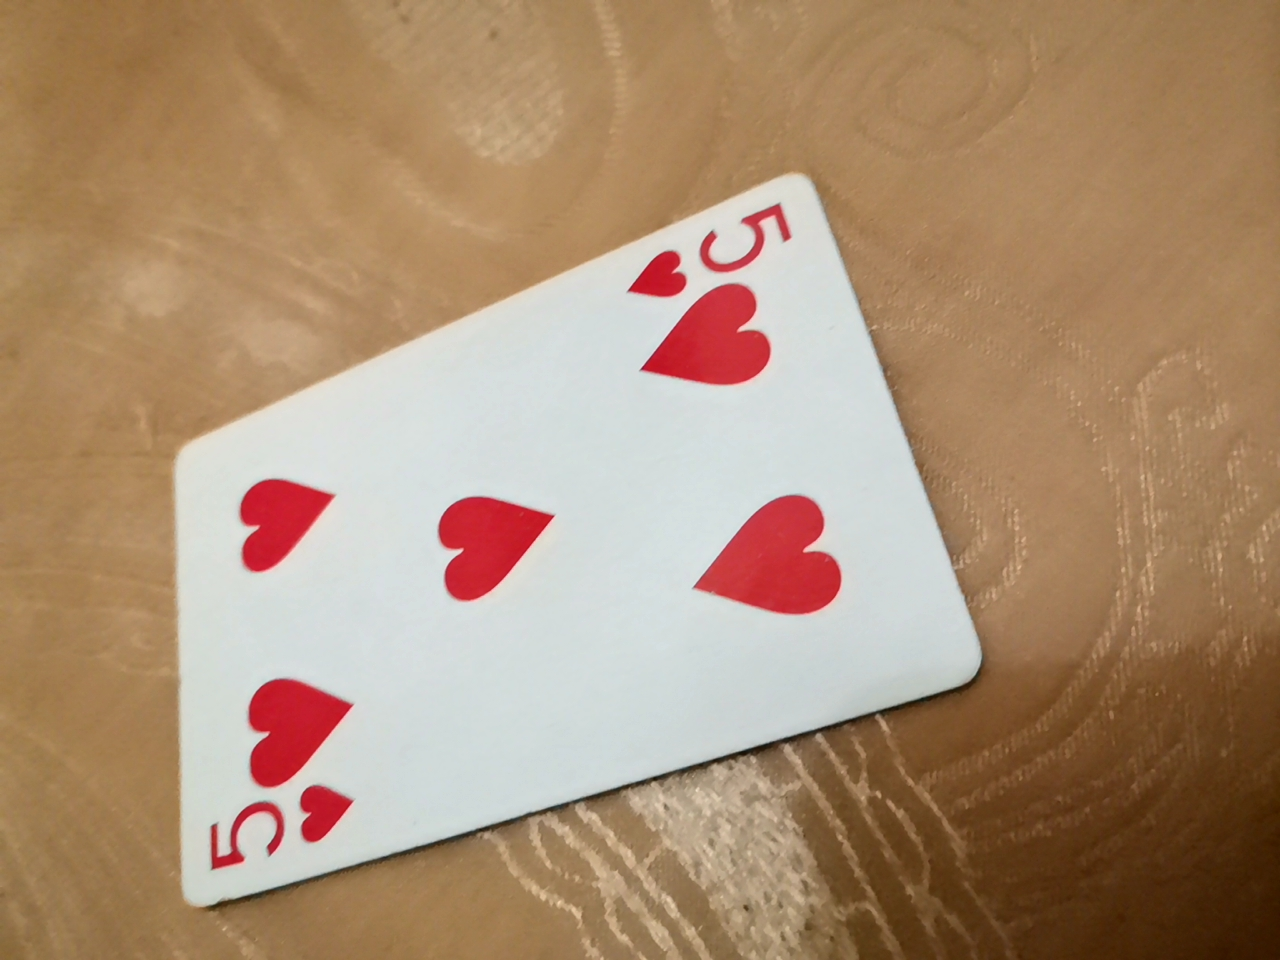hx 5: (175, 143, 1005, 860)
